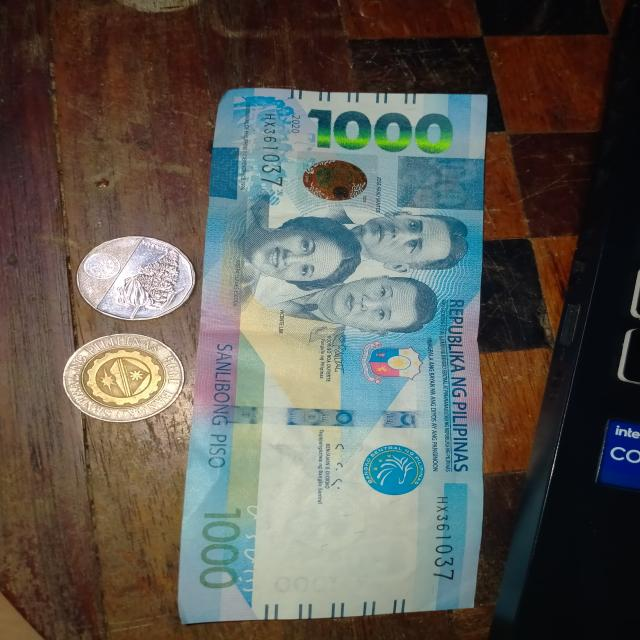concealed_value: (397, 154, 484, 212)
optically_variable_device: (288, 148, 381, 212)
security_thread: (191, 405, 482, 427)
see_through_mark: (233, 496, 286, 605)
value_watermark: (267, 572, 357, 598)
